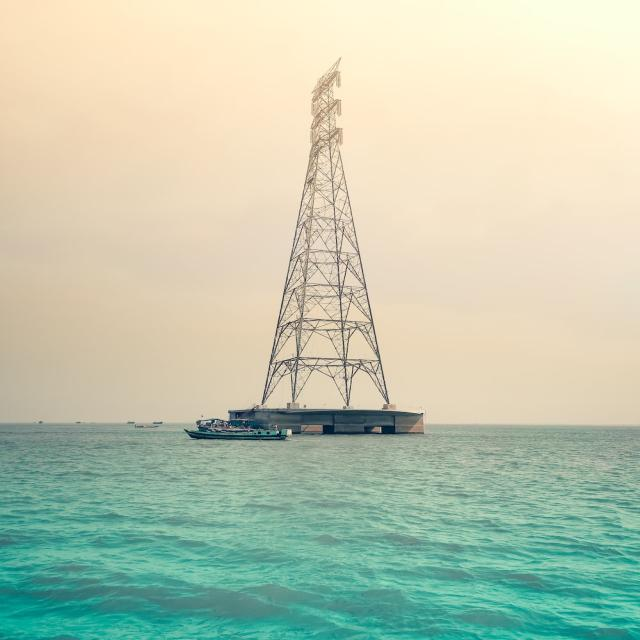transmission tower: (198, 25, 478, 441)
